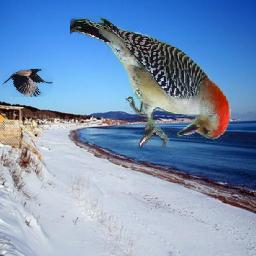Crow: (3, 69, 54, 98)
Woodpecker: (70, 14, 232, 149)
